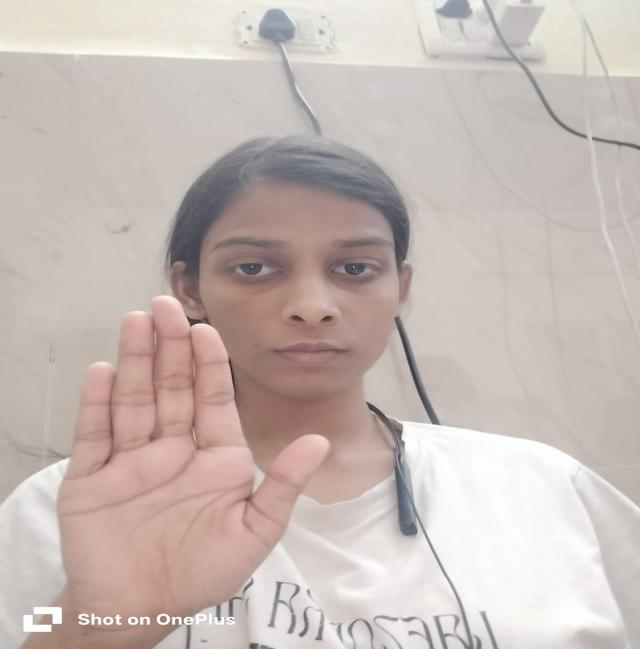Hello: (0, 282, 371, 615)
